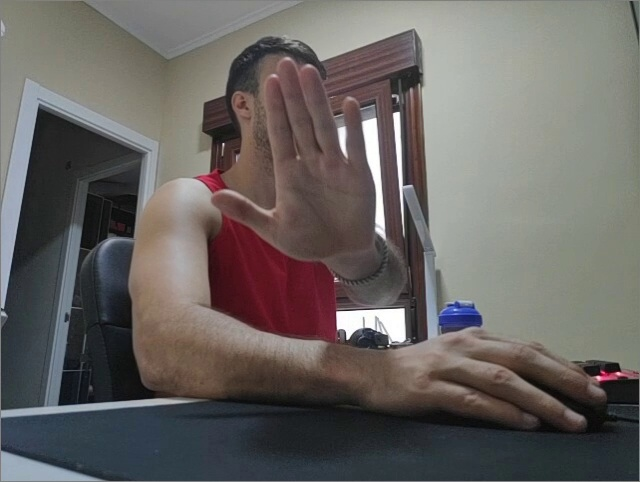Palm: (210, 56, 364, 264)
